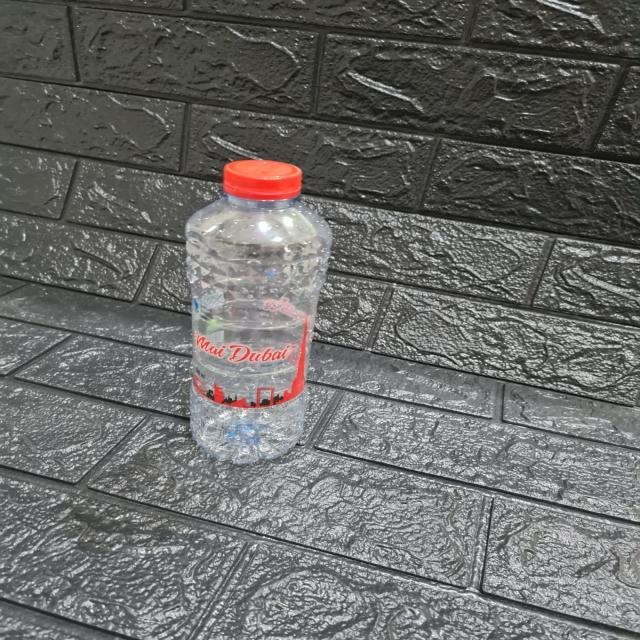bottle: (178, 154, 324, 462)
